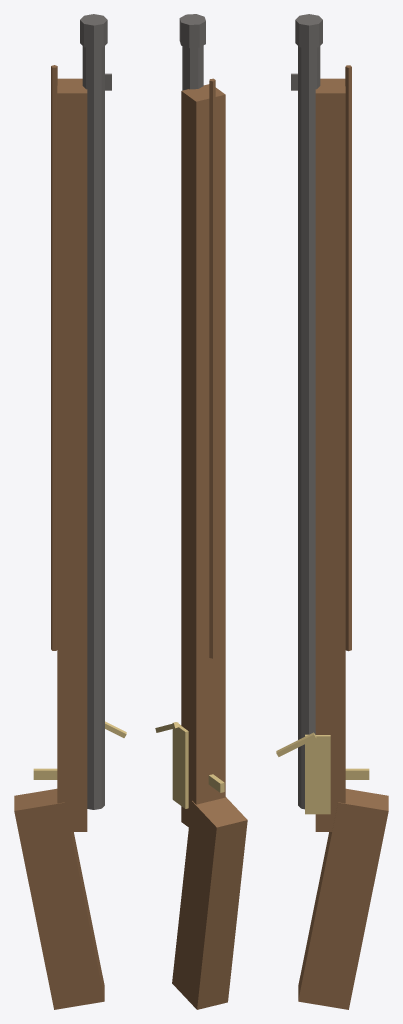
File: teppo.glb
The picture shows the model from 3 angles, left to right: view 1: azimuth 90°, elevation 25°; view 2: azimuth 210°, elevation 25°; view 3: azimuth 270°, elevation 25°; orthographic projection.
Visible parts, largest first — view 1: dai, tsutsu, daijiri, karuka, sakiguchi, hikigane; view 2: dai, daijiri, karuka, karakuri, tsutsu, sakiguchi; view 3: dai, tsutsu, daijiri, karuka, karakuri, sakiguchi, hibasami, hikigane.
Part boxes in pixels (left/top/right/bottom): dai: left=57, top=78, right=87, bottom=831; tsutsu: left=82, top=46, right=104, bottom=809; daijiri: left=14, top=788, right=104, bottom=1009; karuka: left=51, top=65, right=57, bottom=650; sakiguchi: left=80, top=14, right=107, bottom=48; hikigane: left=33, top=768, right=57, bottom=779; dai: left=181, top=84, right=225, bottom=827; daijiri: left=172, top=797, right=247, bottom=1009; karuka: left=209, top=78, right=215, bottom=658; karakuri: left=172, top=722, right=188, bottom=808; tsutsu: left=182, top=45, right=203, bottom=90; sakiguchi: left=179, top=14, right=205, bottom=47; dai: left=315, top=78, right=345, bottom=831; tsutsu: left=298, top=46, right=320, bottom=809; daijiri: left=298, top=788, right=388, bottom=1009; karuka: left=345, top=65, right=351, bottom=651; karakuri: left=305, top=734, right=330, bottom=814; sakiguchi: left=295, top=14, right=322, bottom=48; hibasami: left=276, top=732, right=316, bottom=756; hikigane: left=345, top=768, right=369, bottom=779.
Size of the model in its own units: 0.05 by 1.26 by 0.1312.
